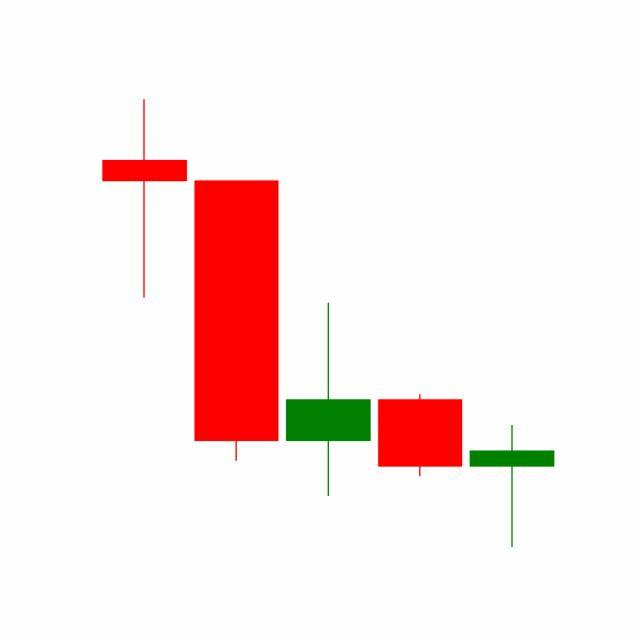Spinning Top: (466, 424, 559, 550)
